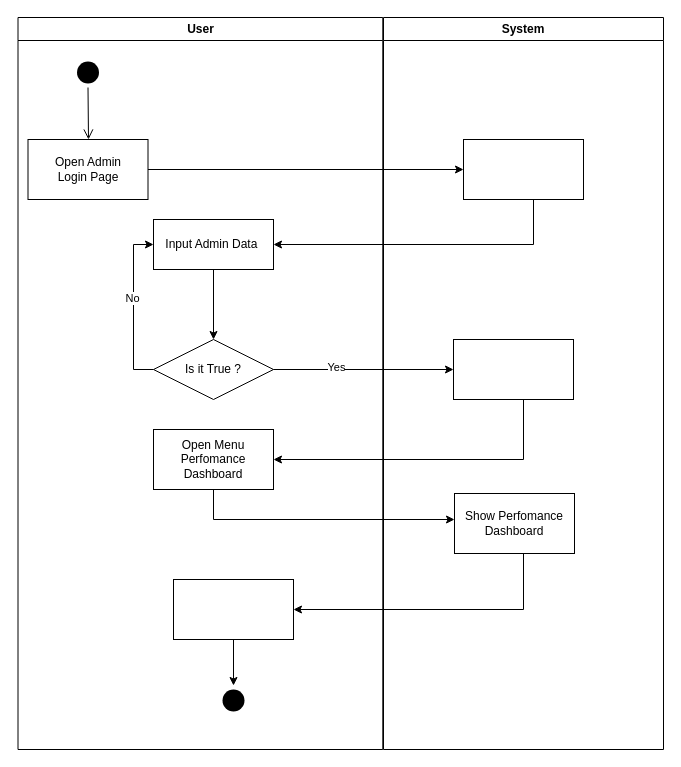
Image size: 681x767. Some labels were removed from this diagram. Here are the shapes that lost their labels. From the top down, the centre of each, then its label:
At (x=523, y=169): "Show Admin Login page".
At (x=513, y=369): "Show Dashboard Admin".
At (x=233, y=609): "Use Function Filter".
